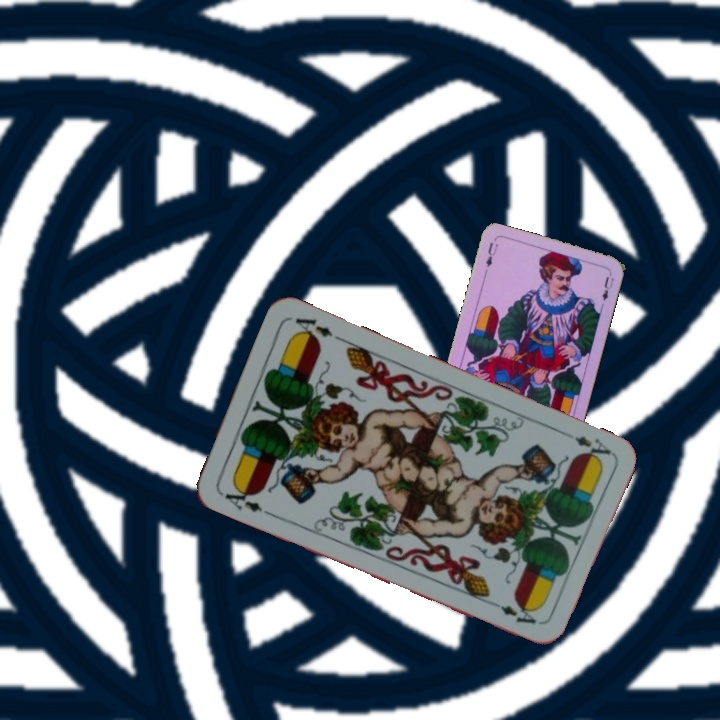EA: (557, 429, 614, 465), (216, 481, 265, 515)
EU: (481, 238, 501, 270)
